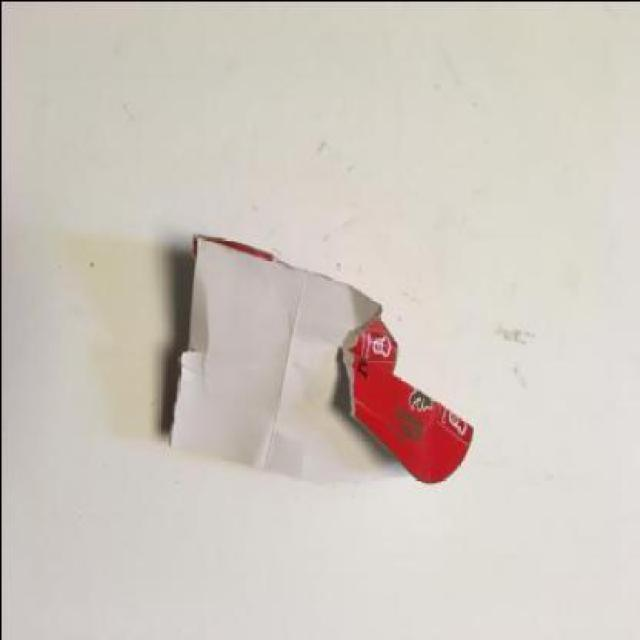CARDBOARD: (168, 232, 474, 480)
PAPER: (168, 230, 475, 479)
